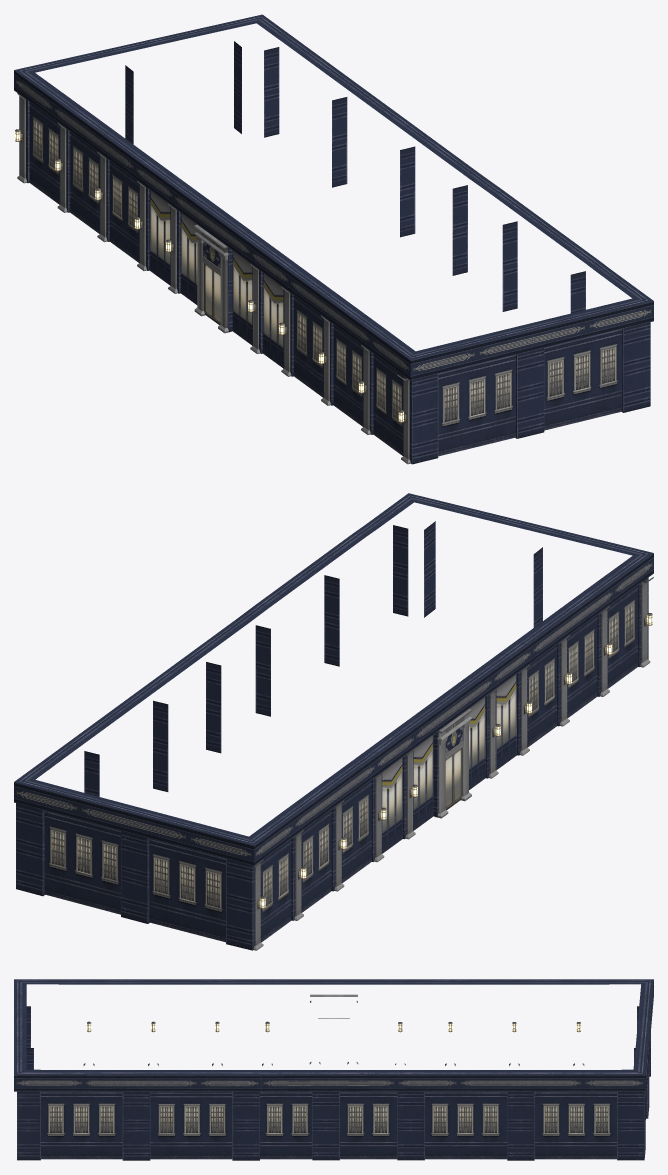
The model's file is t1_b_police.glb.
3 views of the same model, one above another, from view 1: azimuth 30°, elevation 25°; view 2: azimuth 150°, elevation 25°; view 3: azimuth 270°, elevation 25° (orthographic). The views are drawn at different scales.
Visible parts, largest first — view 1: nomerge_t1_b_police_mesh; view 2: nomerge_t1_b_police_mesh; view 3: nomerge_t1_b_police_mesh.
Boxes of the visible parts, bbox=[...] form: nomerge_t1_b_police_mesh: bbox=[14, 14, 653, 464]; nomerge_t1_b_police_mesh: bbox=[14, 493, 653, 950]; nomerge_t1_b_police_mesh: bbox=[14, 979, 653, 1160].
Bounding box in the file's own units: 13.3 × 5.45 × 36.78.
2 materials, 2 textured.
